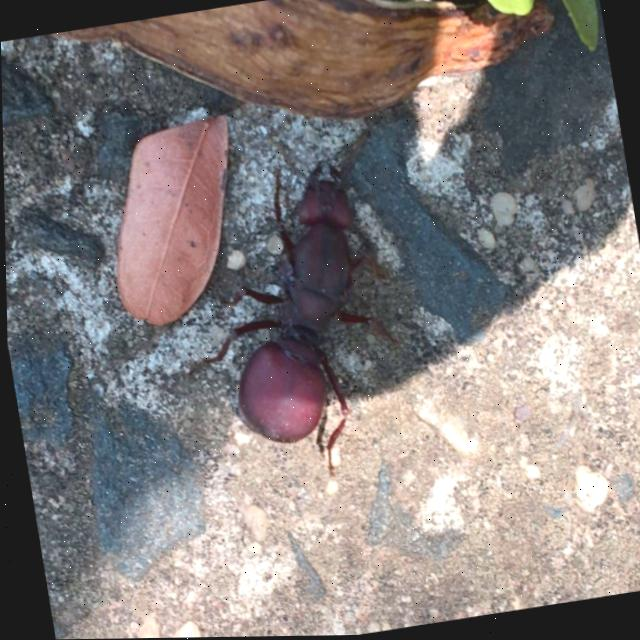Alive-Female-Dealate: (157, 154, 417, 498)
